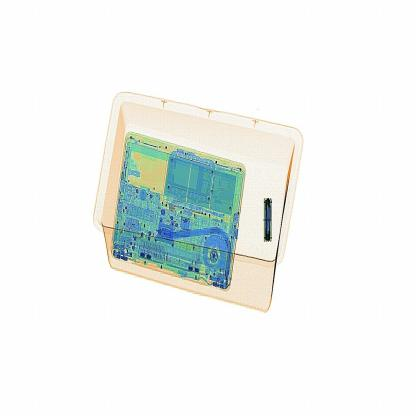scissors: (263, 194, 275, 253)
